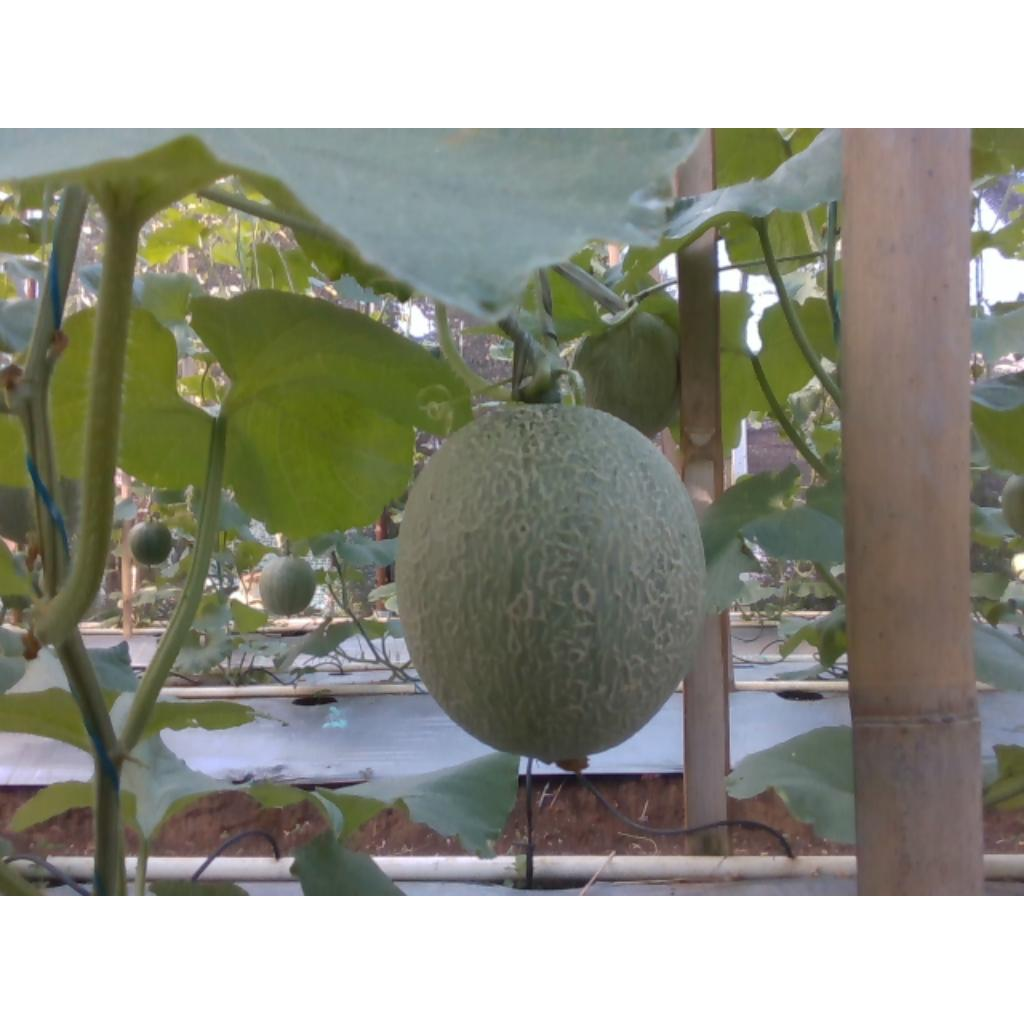melon: (398, 405, 707, 762)
